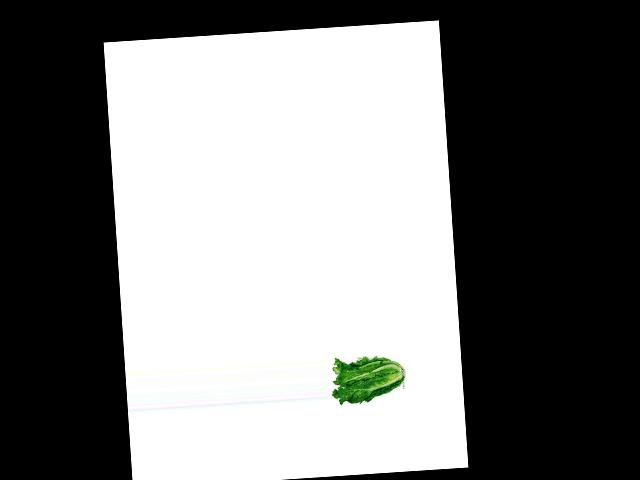lettuce: (329, 352, 405, 405)
